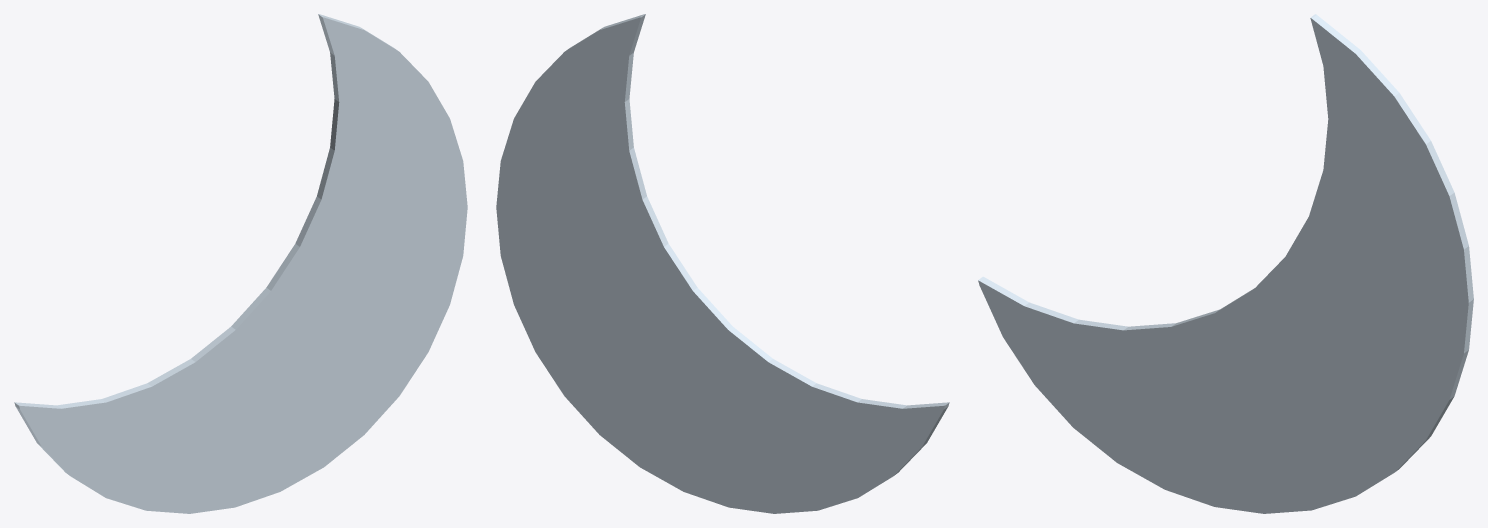
Rendered from Moon_3D_Icon.fbx.
3 views of the same model, side by side, from view 1: azimuth 30°, elevation 25°; view 2: azimuth 150°, elevation 25°; view 3: azimuth 330°, elevation 25° (orthographic). The views are drawn at different scales.
Parts seen in each view (by area): view 1: Moon_3D_Icon; view 2: Moon_3D_Icon; view 3: Moon_3D_Icon.
Boxes of the visible parts, <box> form: Moon_3D_Icon: <box>14,14,467,513</box>; Moon_3D_Icon: <box>496,14,949,513</box>; Moon_3D_Icon: <box>978,14,1473,513</box>.
Bounding box in the file's own units: 110 × 110 × 2.
